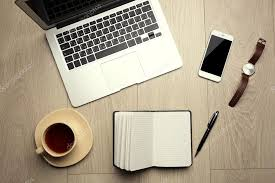mobil: (196, 29, 235, 83)
